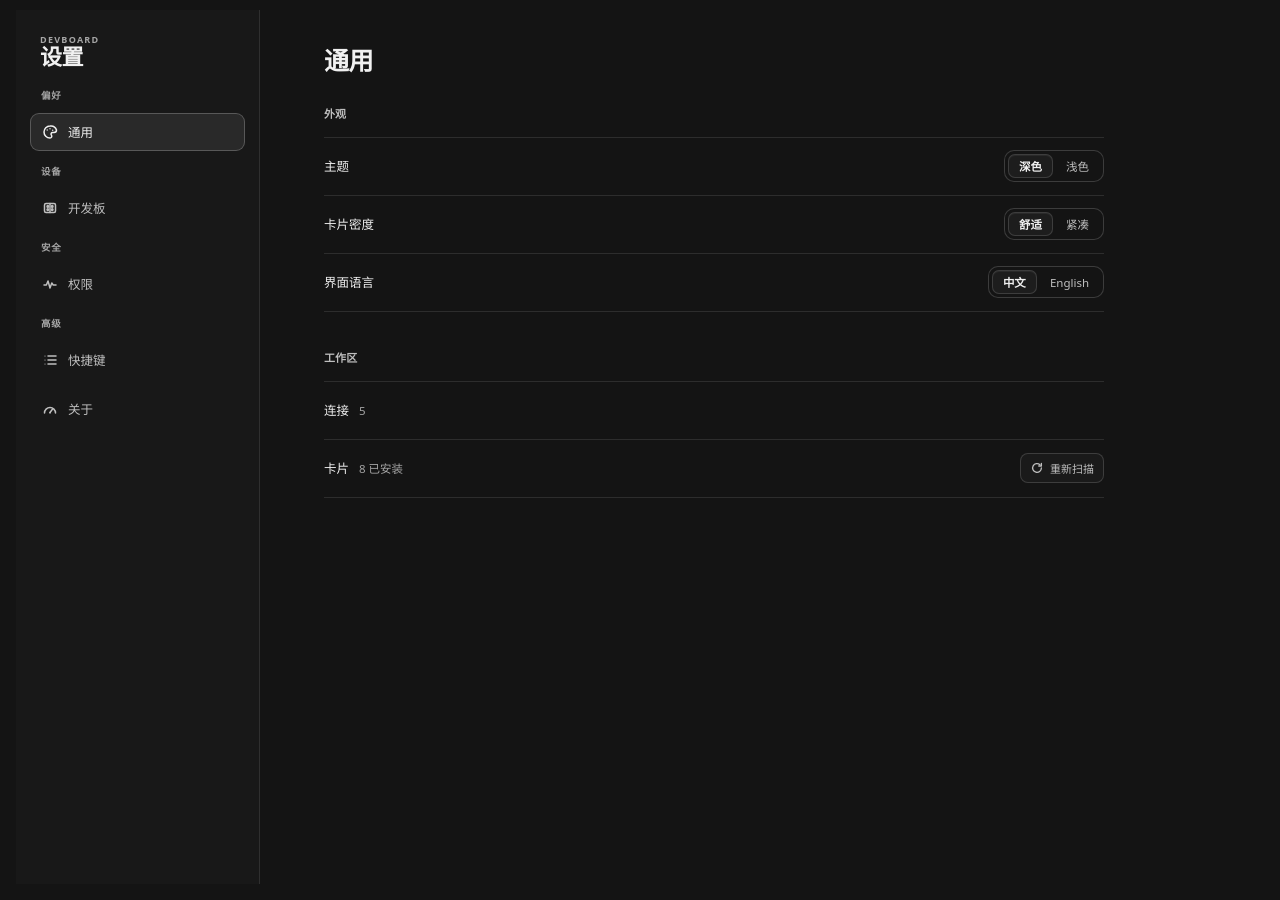
The settings page · the permission area › shows only the selected category and exposes permissions as its own section
Expected: the text "设置背光亮度" is not shown
What coordinates should you click on to do the following:
click the button "权限"
I would click on:
 (138, 284)
Its box is [30,265,245,303].
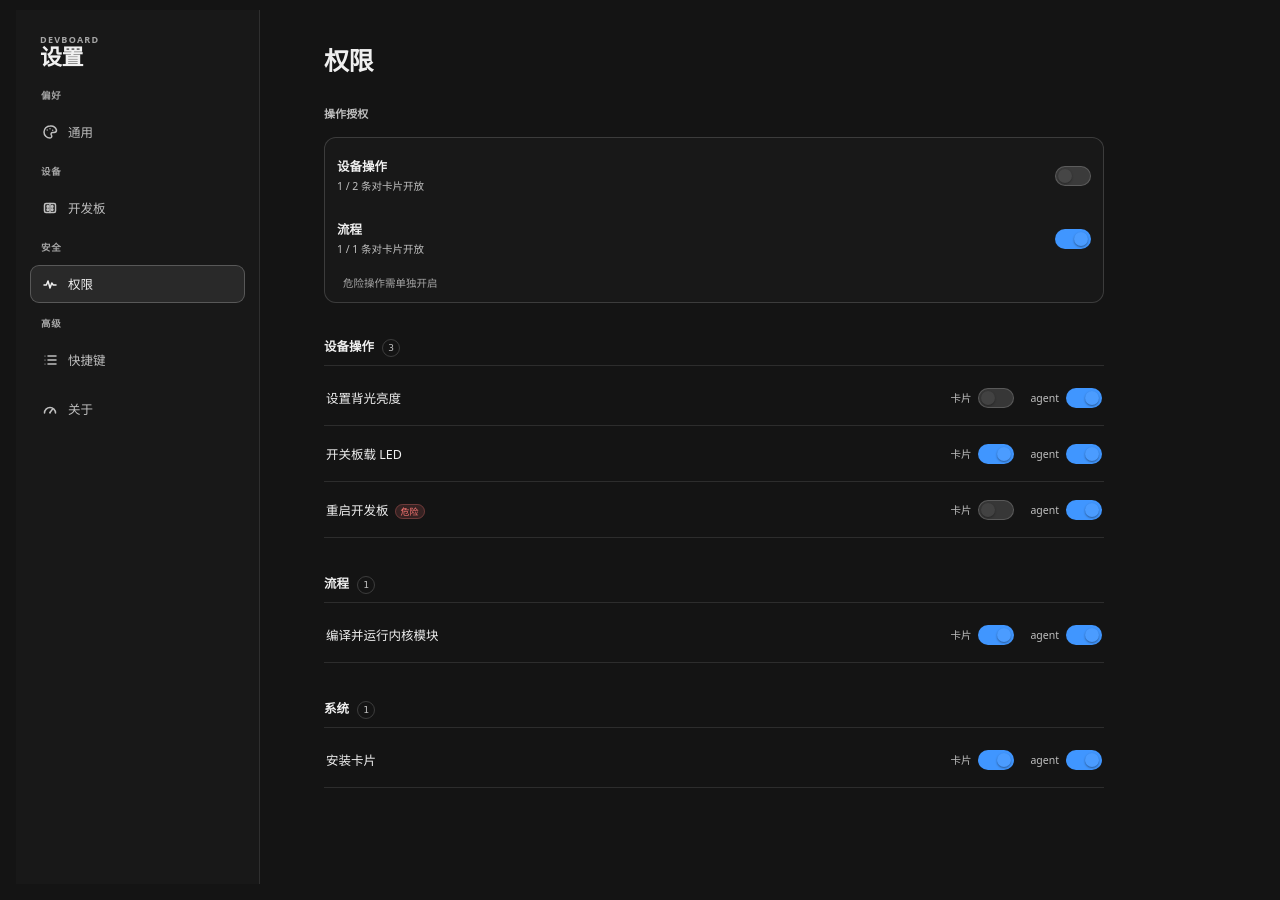
Expected: the text "设置背光亮度" is shown, [326,388,401,408]
